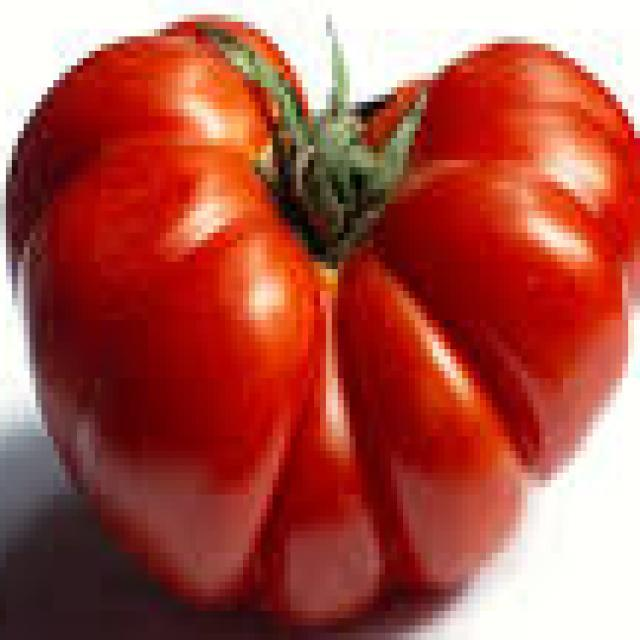Healthy: (11, 11, 640, 629)
